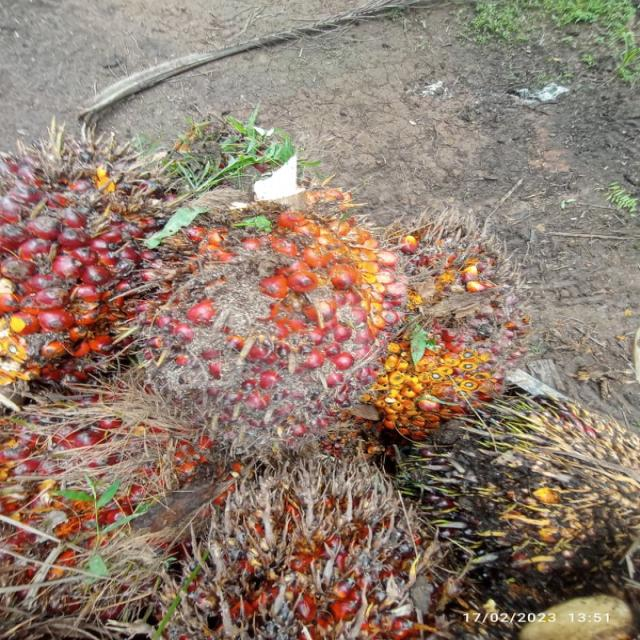fraksi 00: (402, 333, 640, 598)
fraksi 3: (101, 170, 457, 441), (140, 422, 479, 639), (352, 172, 574, 436), (0, 369, 236, 609), (0, 107, 200, 390)
